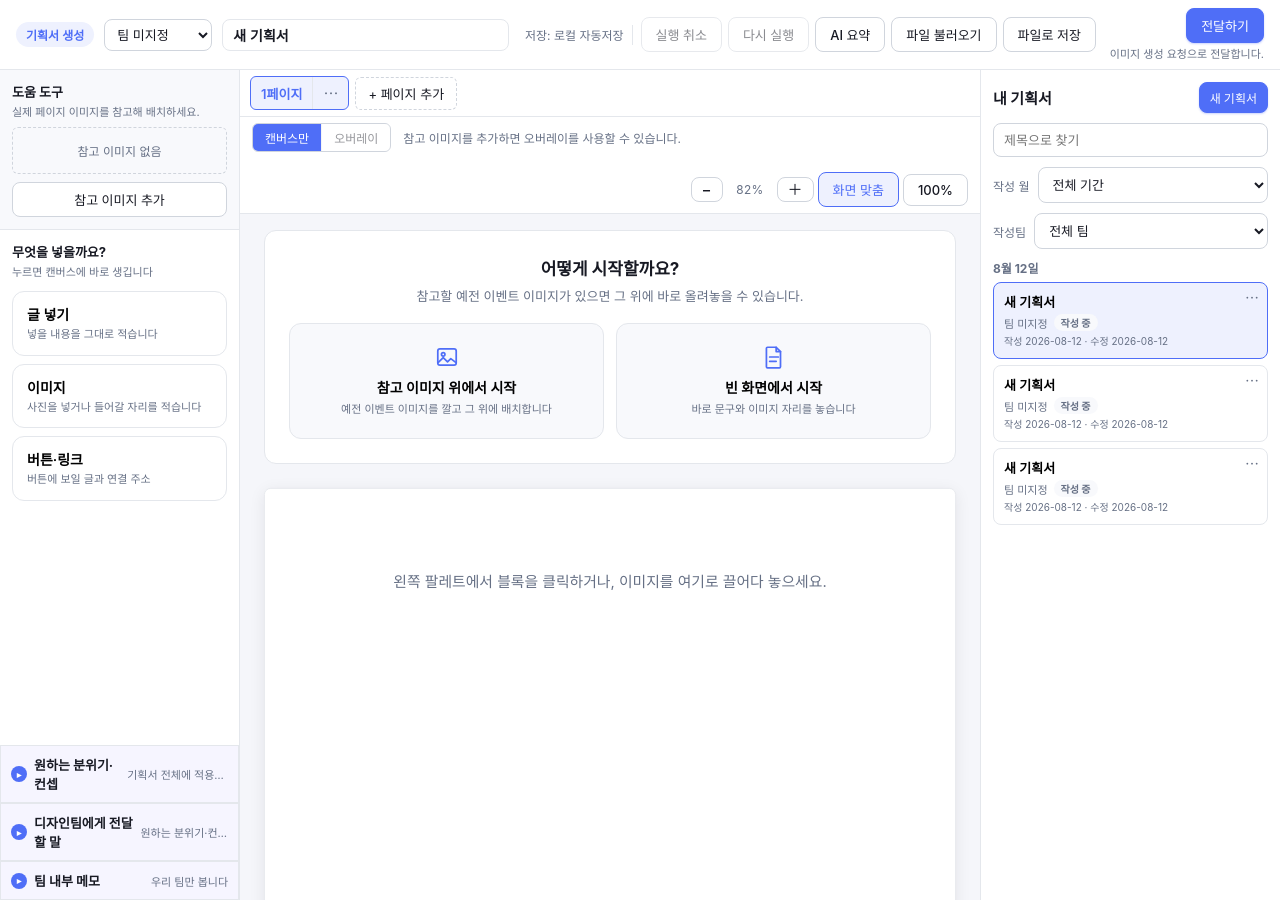
Test: image-generation placeholder (§13.4) › shows the honest "다음 단계" notice with no fake generate button
The width and height of the screenshot is (1280, 900).
Click the button "글 넣기 넣을 내용을 그대로 적습니다": x=120, y=323 [12,291,227,356]
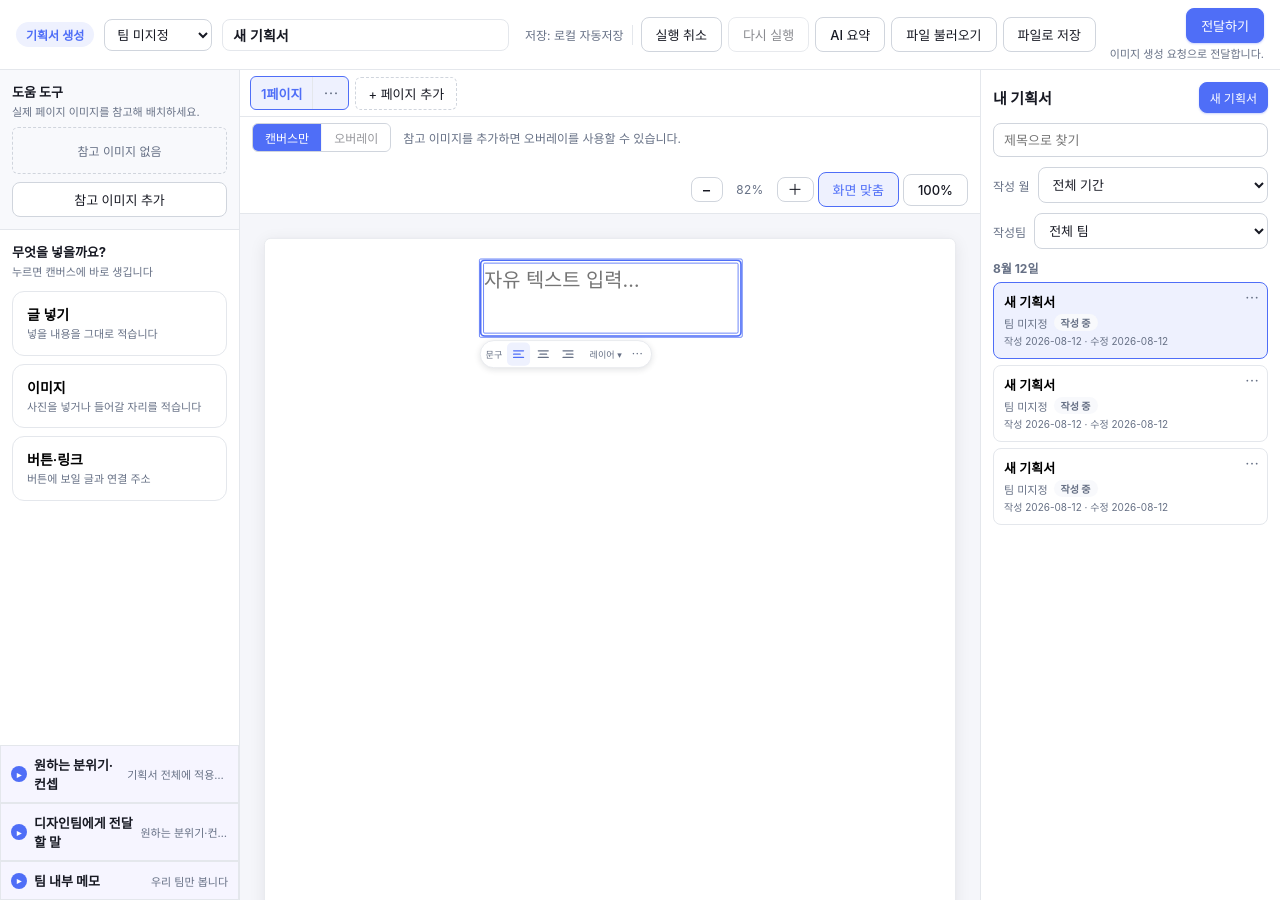
Replace the text in the field named "기획서 제목" with "생성 자리 테스트": x=366, y=34 [222,18,509,50]
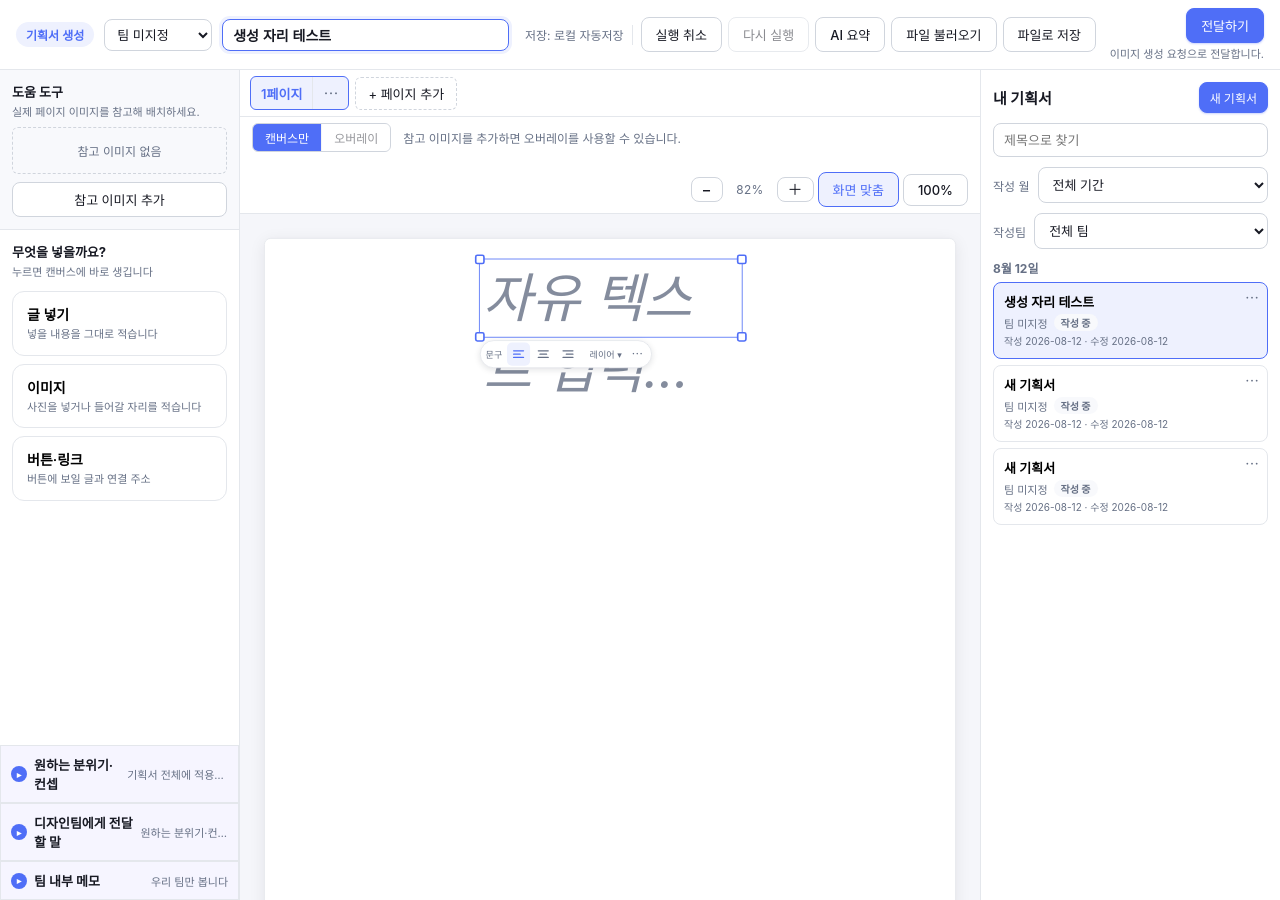
Click the button "전달하기": x=1225, y=26 [1186,8,1264,43]
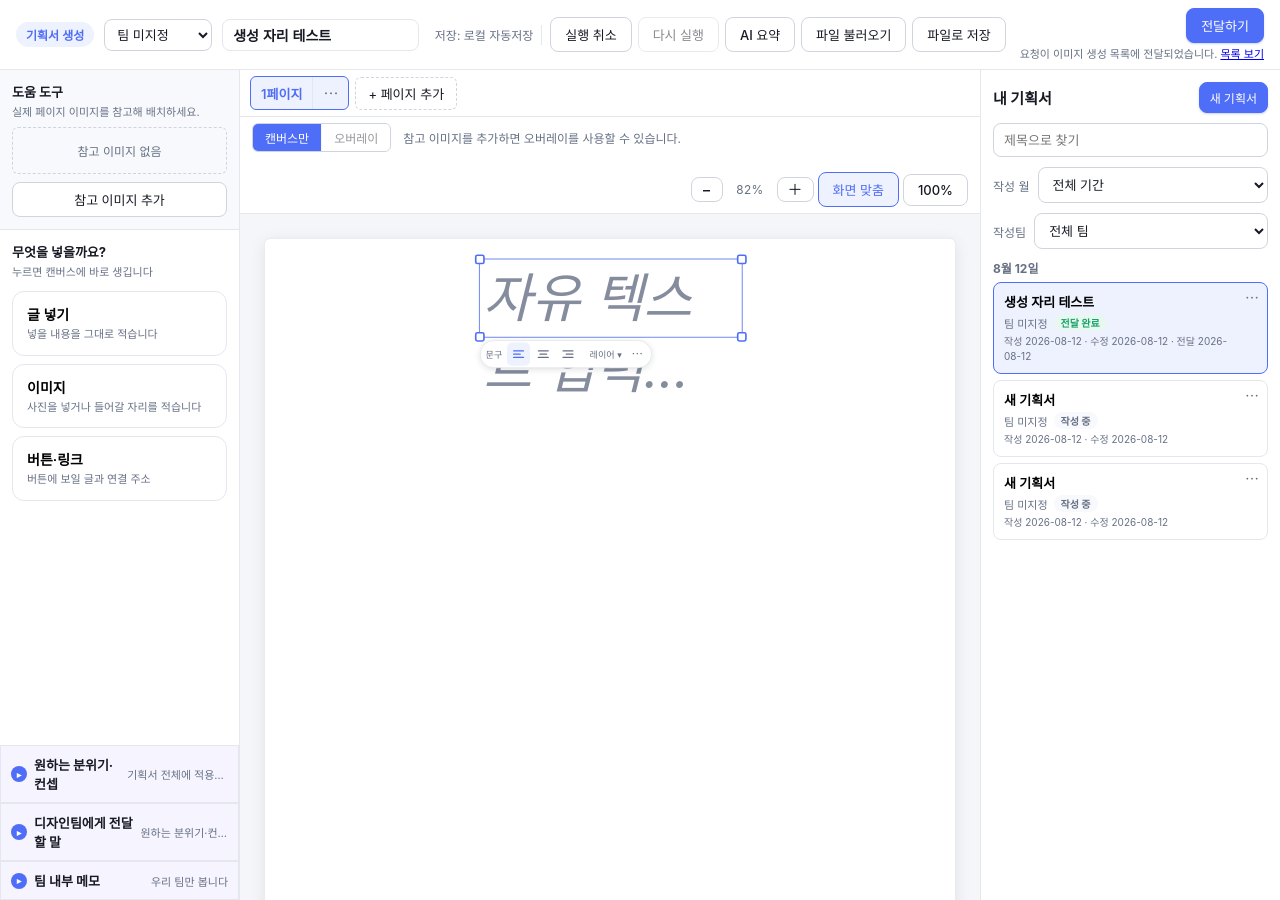
Expected: the message shows "전달되었습니다", [1020,47,1217,61]
Click the link "목록 보기": x=1242, y=54 [1220,47,1264,61]
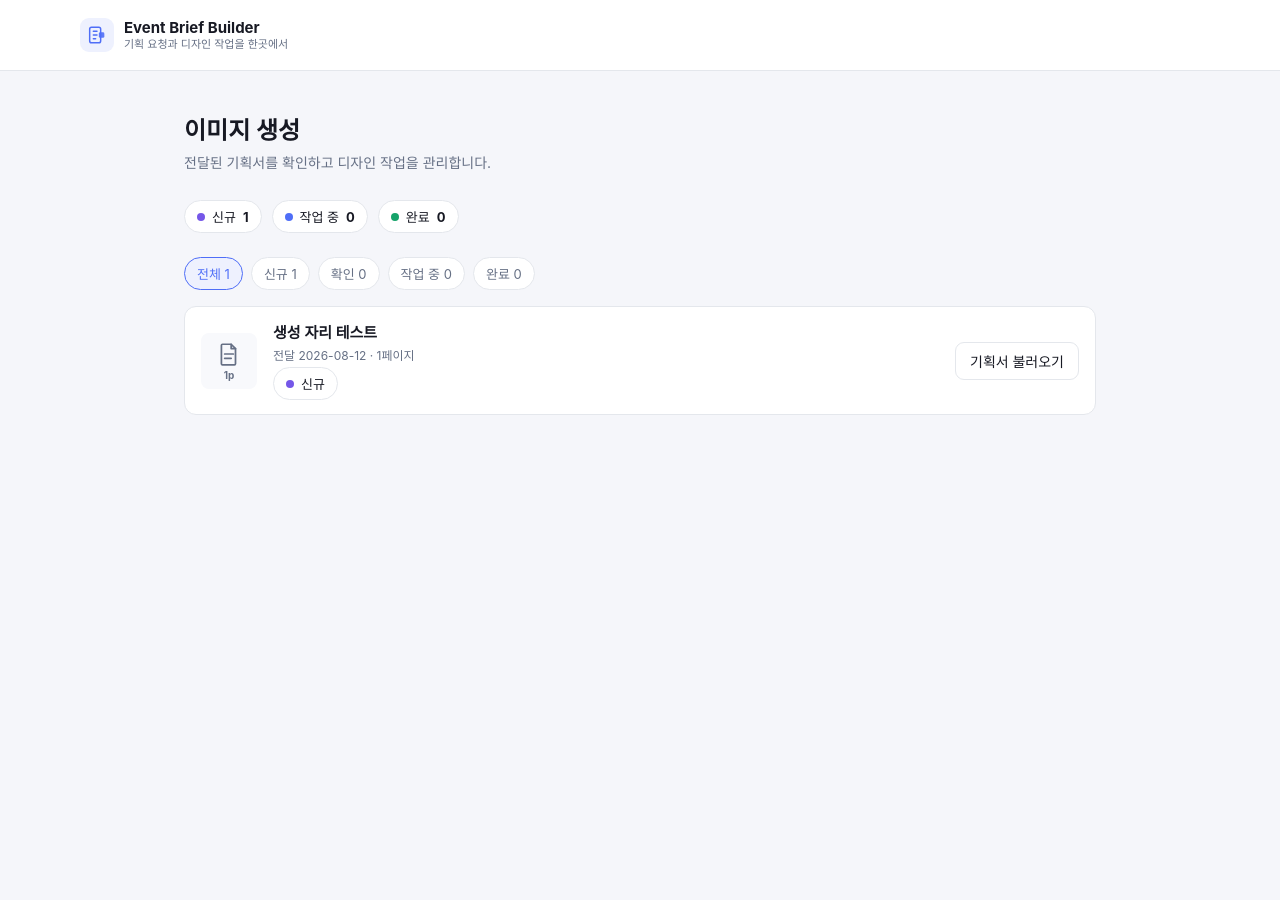
Click the link "기획서 불러오기": x=1017, y=360 [955,342,1079,380]
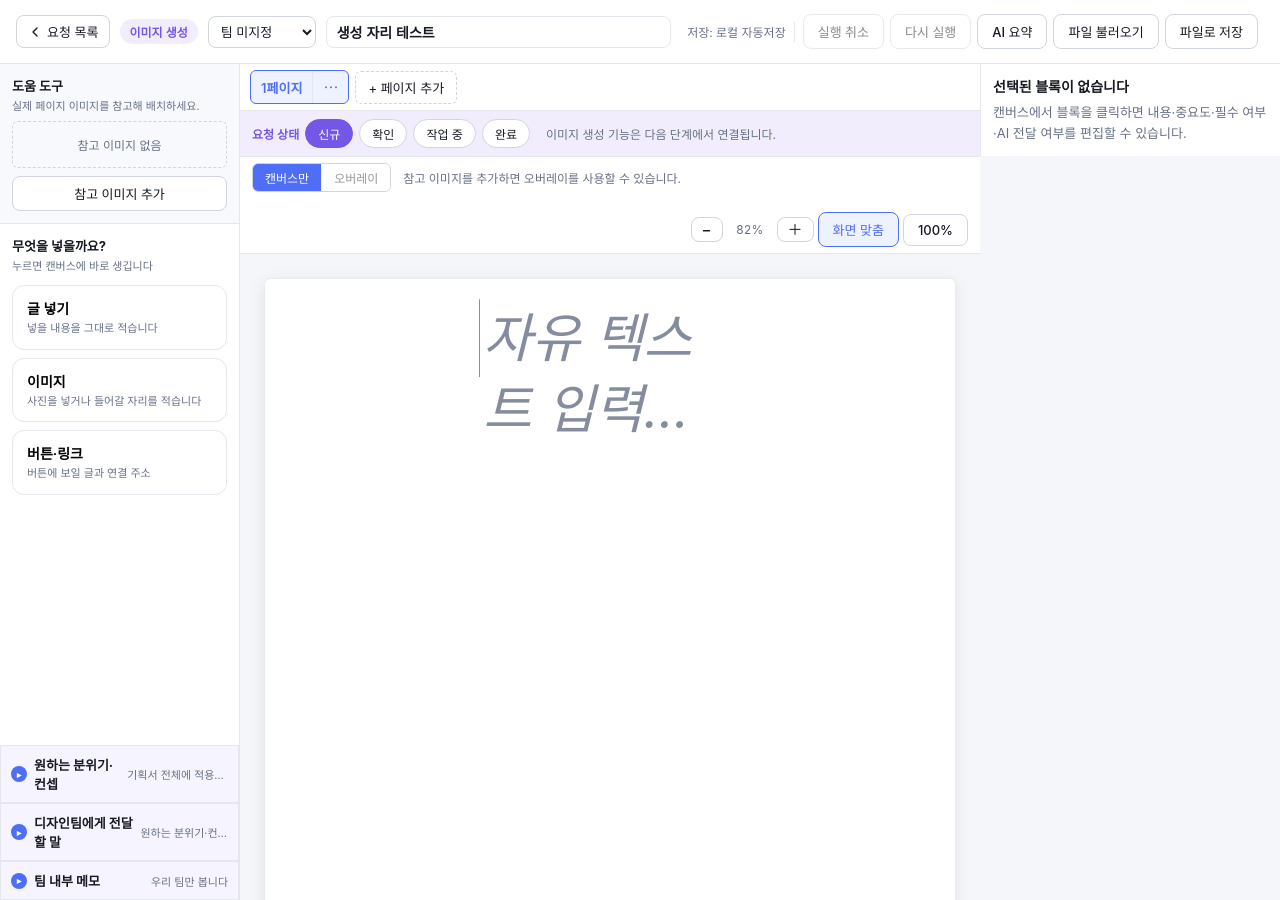
Expected: the text "이미지 생성 기능은 다음 단계에서 연결됩니다." is shown, [546,125,776,142]
